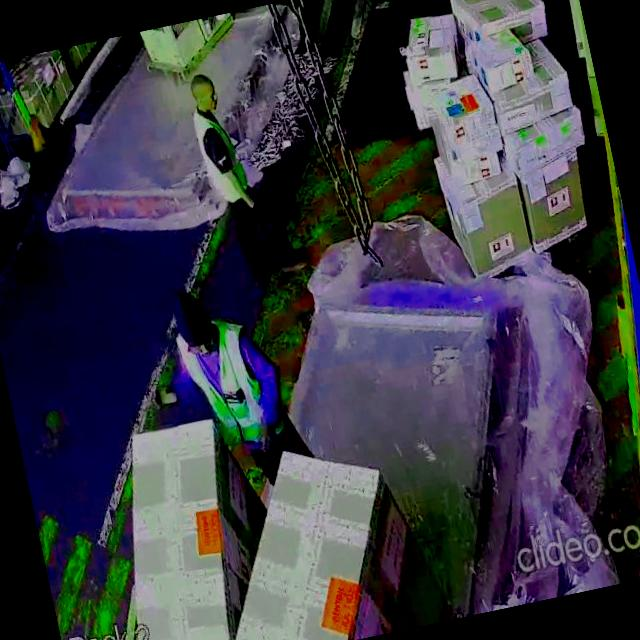Box: (440, 172, 536, 271), (516, 159, 592, 249), (430, 74, 500, 142), (396, 7, 458, 82), (449, 0, 547, 45), (502, 78, 580, 128), (510, 116, 588, 163), (472, 29, 528, 84)
